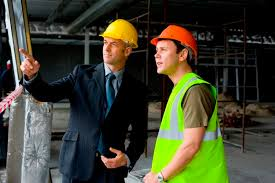Person_wearing_helmet: (150, 21, 197, 55), (95, 15, 139, 46)
